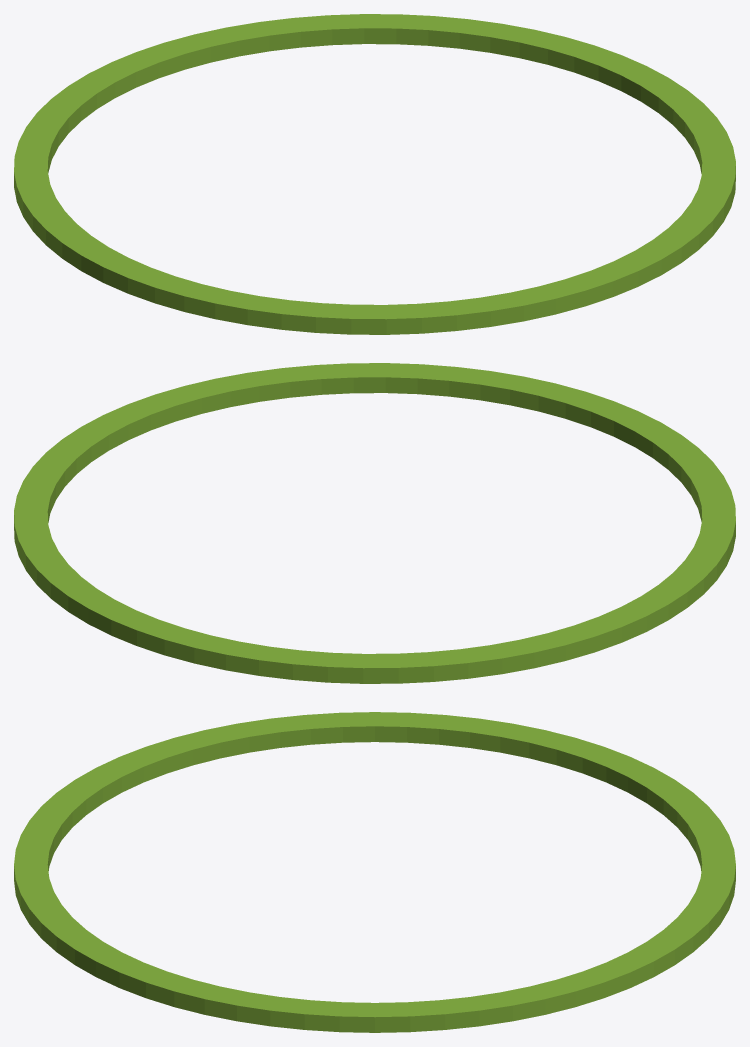
File: ring.obj
The picture shows the model from 3 angles, top to bottom: view 1: azimuth 30°, elevation 25°; view 2: azimuth 150°, elevation 25°; view 3: azimuth 270°, elevation 25°; orthographic projection.
Parts seen in each view (by area): view 1: Cylinder.002_Mesh; view 2: Cylinder.002_Mesh; view 3: Cylinder.002_Mesh.
Boxes of the visible parts, bbox=[...] form: Cylinder.002_Mesh: bbox=[14, 14, 735, 334]; Cylinder.002_Mesh: bbox=[14, 363, 735, 683]; Cylinder.002_Mesh: bbox=[14, 712, 735, 1032].
Bounding box in the file's own units: 15.87 × 0.3824 × 15.87.
